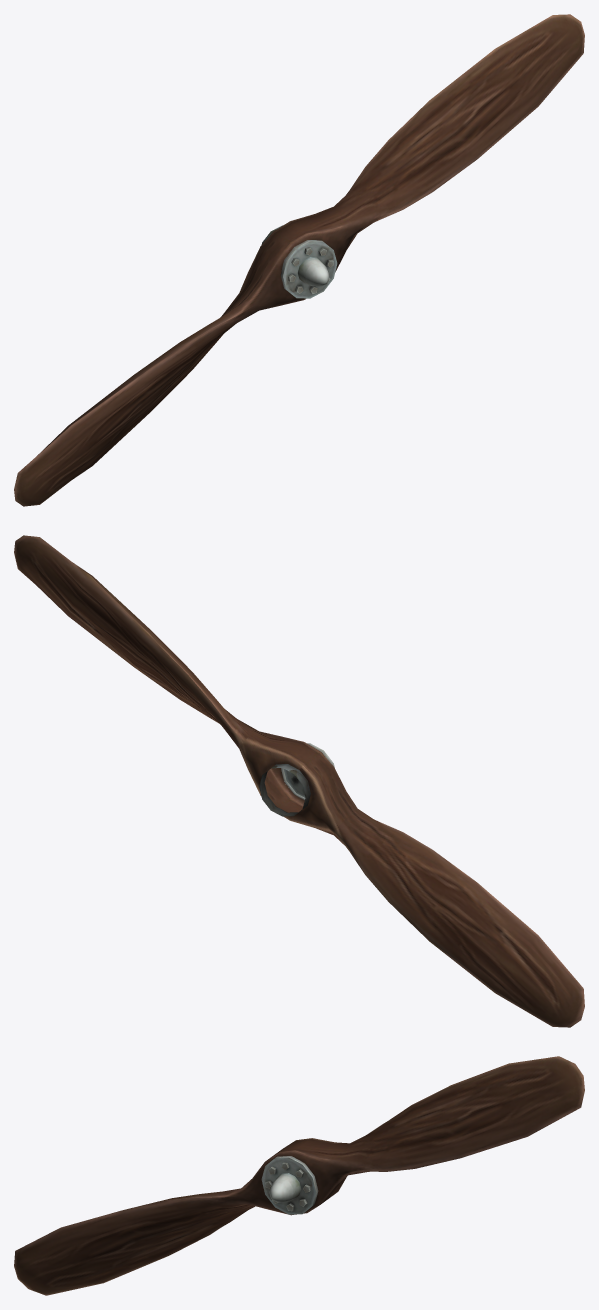
The model's file is prop.glb.
3 views of the same model, one above another, from view 1: azimuth 30°, elevation 25°; view 2: azimuth 150°, elevation 25°; view 3: azimuth 330°, elevation 25° (orthographic).
Visible parts, largest first — view 1: Wing_Top.002; view 2: Wing_Top.002; view 3: Wing_Top.002.
Part boxes in pixels (bbox=[...]): Wing_Top.002: bbox=[14, 14, 584, 506]; Wing_Top.002: bbox=[14, 535, 584, 1027]; Wing_Top.002: bbox=[14, 1056, 584, 1295].
Bounding box in the file's own units: 6.24 × 3.81 × 0.8344.
Materials: 1 (1 with a texture image).
